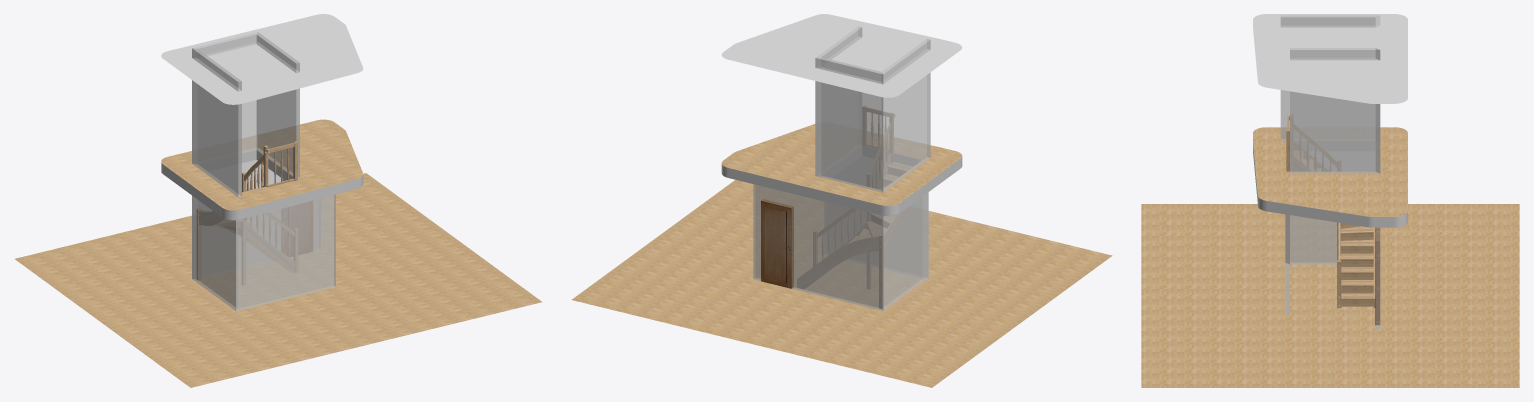
3 views of the same model, side by side, from view 1: azimuth 30°, elevation 25°; view 2: azimuth 150°, elevation 25°; view 3: azimuth 270°, elevation 25° (orthographic). The views are drawn at different scales.
Visible parts, largest first — view 1: StairCon (×9); view 2: StairCon (×9); view 3: StairCon (×8).
Part boxes in pixels (bbox=[...]): StairCon (×9): bbox=[15, 14, 541, 387]; StairCon (×9): bbox=[571, 14, 1112, 387]; StairCon (×8): bbox=[1141, 14, 1519, 387].
Size of the model in its own units: 9.38 by 8.14 by 5.88.
Materials: 15 (9 with a texture image).
